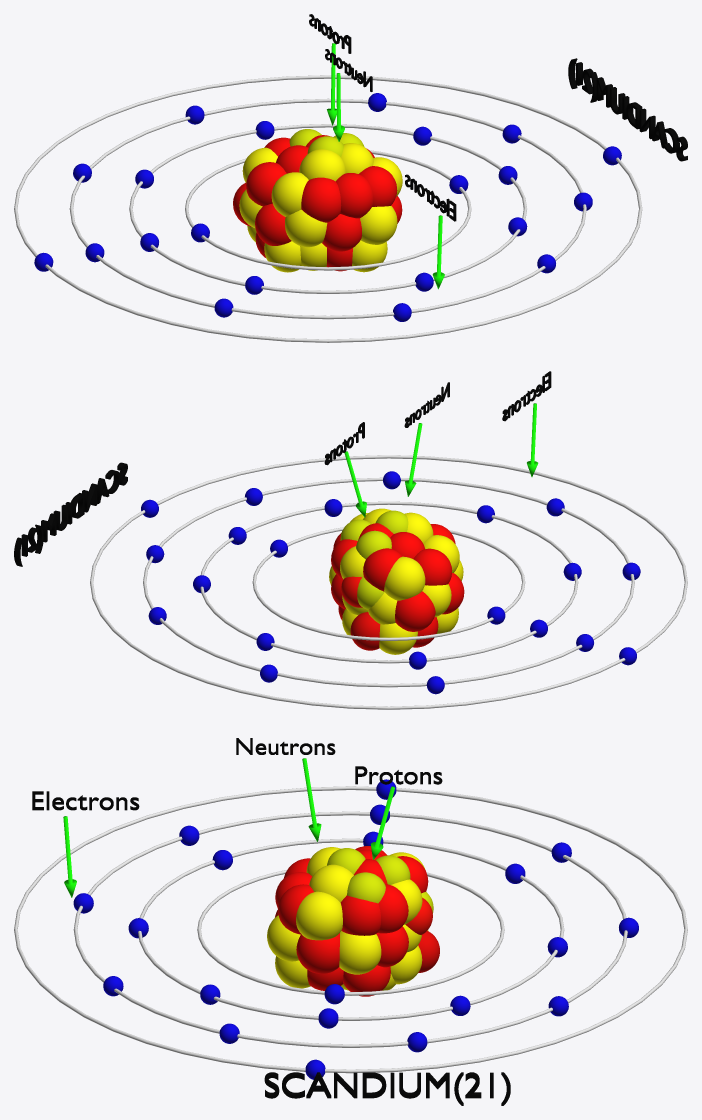
File: Scandium Atomic Model.gltf
3 renders of one model, top to bottom at view 1: azimuth 30°, elevation 25°; view 2: azimuth 150°, elevation 25°; view 3: azimuth 270°, elevation 25°, orthographic. The views are drawn at different scales.
Visible parts, largest first — view 1: Sphere.038, Torus.003, Torus.002, Torus.001, Text.003, Torus, Text, Text.001; view 2: Sphere.038, Torus.003, Torus.002, Torus.001, Text.003, Torus, Text; view 3: Sphere.038, Torus.003, Torus.002, Torus.001, Text.003, Torus, Text, Text.001, Text.002.
Boxes of the visible parts, <box> form: Sphere.038: <box>233,129,402,272</box>; Torus.003: <box>14,75,642,342</box>; Torus.002: <box>69,98,586,319</box>; Torus.001: <box>129,124,526,293</box>; Text.003: <box>568,58,687,161</box>; Torus: <box>185,150,471,270</box>; Text: <box>405,174,456,221</box>; Text.001: <box>325,49,372,91</box>; Sphere.038: <box>329,508,464,654</box>; Torus.003: <box>90,455,687,709</box>; Torus.002: <box>143,477,634,687</box>; Torus.001: <box>200,501,578,663</box>; Text.003: <box>14,462,127,566</box>; Torus: <box>252,527,525,640</box>; Text: <box>502,371,551,421</box>; Sphere.038: <box>267,846,439,996</box>; Torus.003: <box>14,786,687,1073</box>; Torus.002: <box>73,811,627,1047</box>; Torus.001: <box>138,838,564,1020</box>; Text.003: <box>264,1072,510,1105</box>; Torus: <box>197,870,504,995</box>; Text: <box>32,791,139,810</box>; Text.001: <box>236,738,335,754</box>; Text.002: <box>355,766,442,784</box>.
Size of the model in its own units: 4.97 by 1.81 by 4.54.
